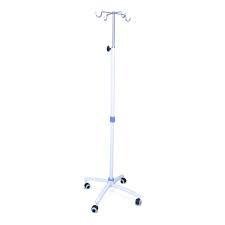Saline Stand: (82, 9, 142, 212)
